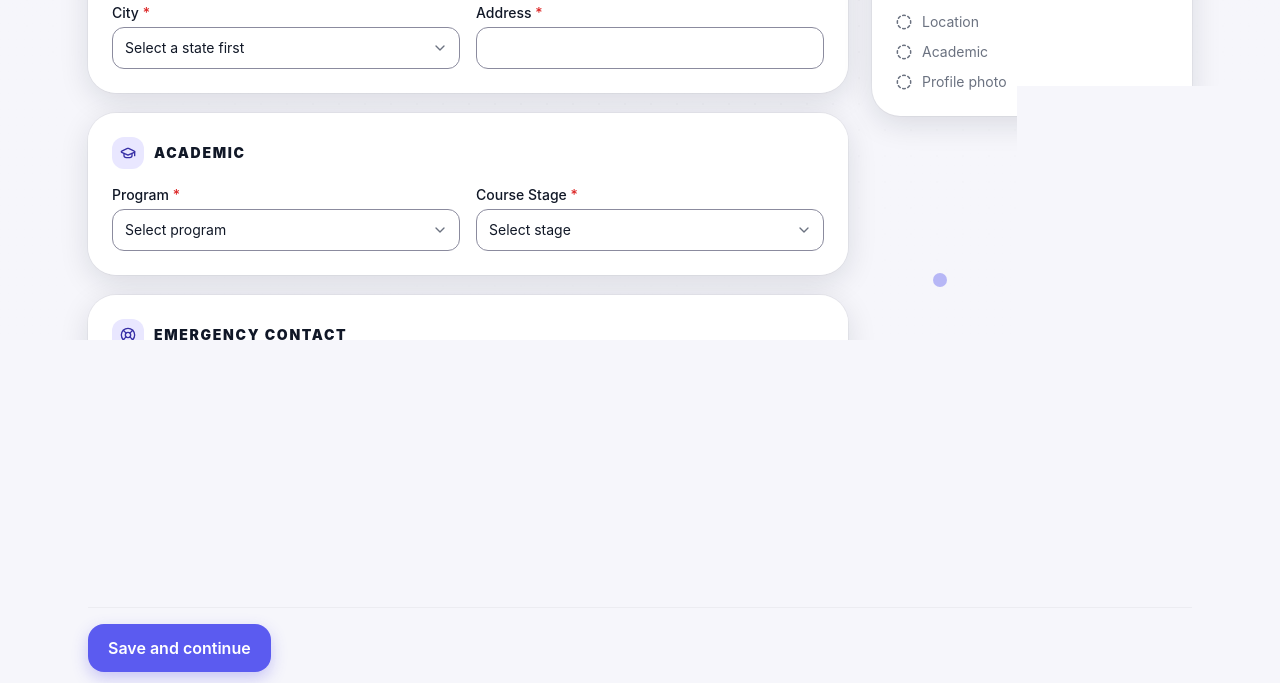
CompleteProfilePage › blocks submission and shows validation errors when empty
(page scrolled)
Step 1. Click the button "Save and continue" → (179, 648), box [88, 624, 271, 672]
(page scrolled)
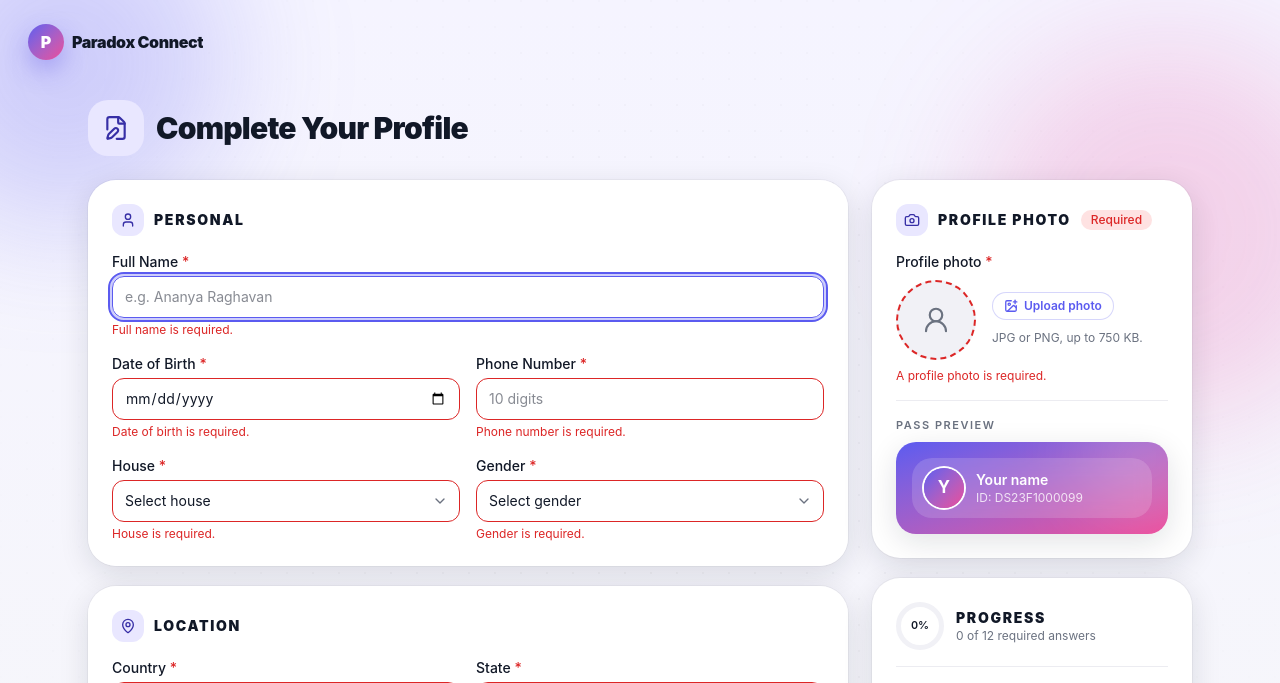
Result: the text "Full name is required." is shown at [112, 322, 233, 337]
